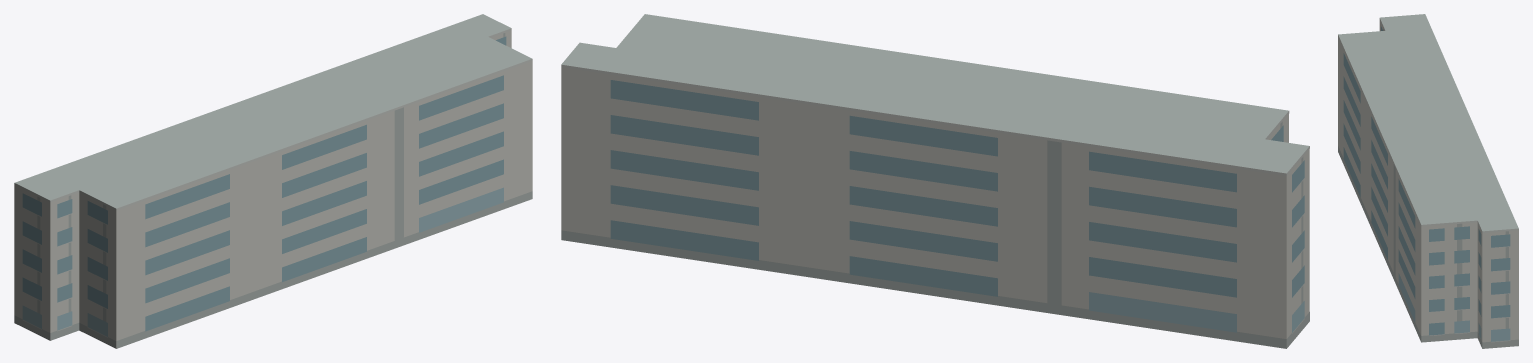
Rendered from residential-742ca8ba-99c2-444f-80fb-9cd7c10d5339.glb.
3 views of the same model, side by side, from view 1: azimuth 30°, elevation 25°; view 2: azimuth 150°, elevation 25°; view 3: azimuth 270°, elevation 25° (orthographic). The views are drawn at different scales.
Visible parts, largest first — view 1: residential-742ca8ba-99c2-444f-80fb-9cd7c10d5339.tmp; view 2: residential-742ca8ba-99c2-444f-80fb-9cd7c10d5339.tmp; view 3: residential-742ca8ba-99c2-444f-80fb-9cd7c10d5339.tmp.
Boxes of the visible parts, x1=… form: residential-742ca8ba-99c2-444f-80fb-9cd7c10d5339.tmp: x1=14, y1=14, x2=532, y2=348; residential-742ca8ba-99c2-444f-80fb-9cd7c10d5339.tmp: x1=561, y1=14, x2=1309, y2=348; residential-742ca8ba-99c2-444f-80fb-9cd7c10d5339.tmp: x1=1338, y1=14, x2=1518, y2=348.
Bounding box in the file's own units: 60.45 × 15.25 × 21.25.
